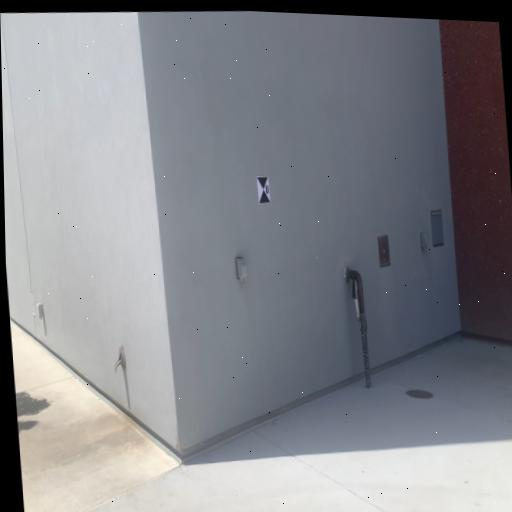target8: (257, 176, 270, 203)
